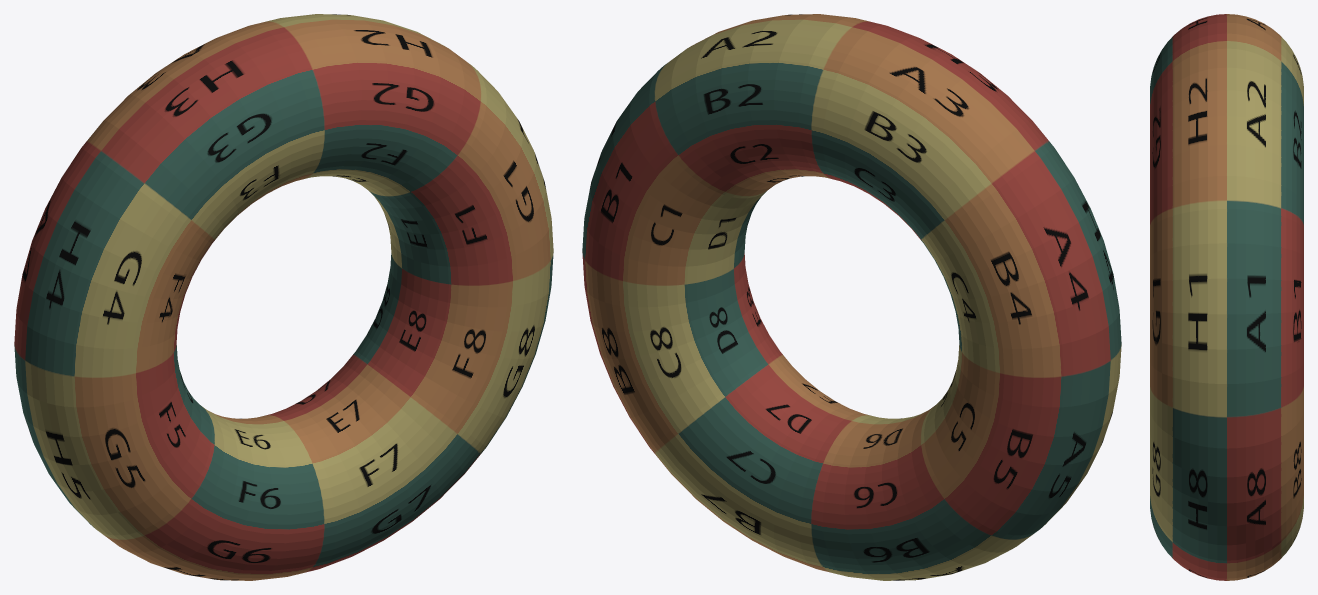
Rendered from texture_torus_R22_r27.glb.
3 renders of one model, left to right at view 1: azimuth 30°, elevation 25°; view 2: azimuth 150°, elevation 25°; view 3: azimuth 270°, elevation 25°, orthographic. The views are drawn at different scales.
Visible parts, largest first — view 1: world; view 2: world; view 3: world.
Boxes of the visible parts, bbox=[...] form: world: bbox=[14, 14, 553, 580]; world: bbox=[582, 14, 1121, 580]; world: bbox=[1150, 14, 1303, 580].
Bounding box in the file's own units: 33.87 × 33.8 × 9.18.
Materials: 1 (1 with a texture image).
